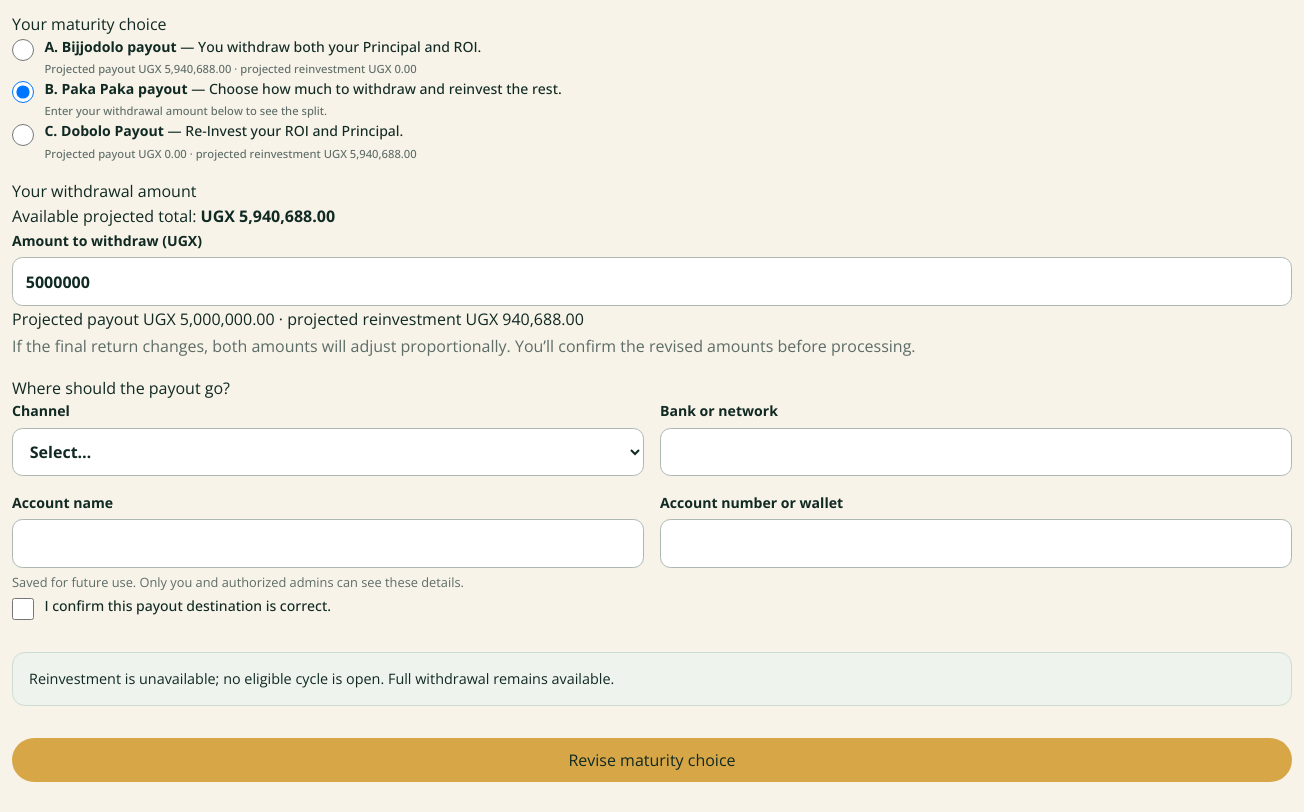
Scenario: Paka Paka withdrawal form › restores a saved withdrawal and hides it when another option is chosen
This screenshot has width=1304, height=812.
expect the field labelled "Amount to withdraw (UGX)" holds "5000000": met, box [12,257,1292,306]
What coordinates should you click on to do the following:
click the radio button labelled "C. Dobolo"
I would click on:
 (23, 135)
Its box is [12,124,34,146].
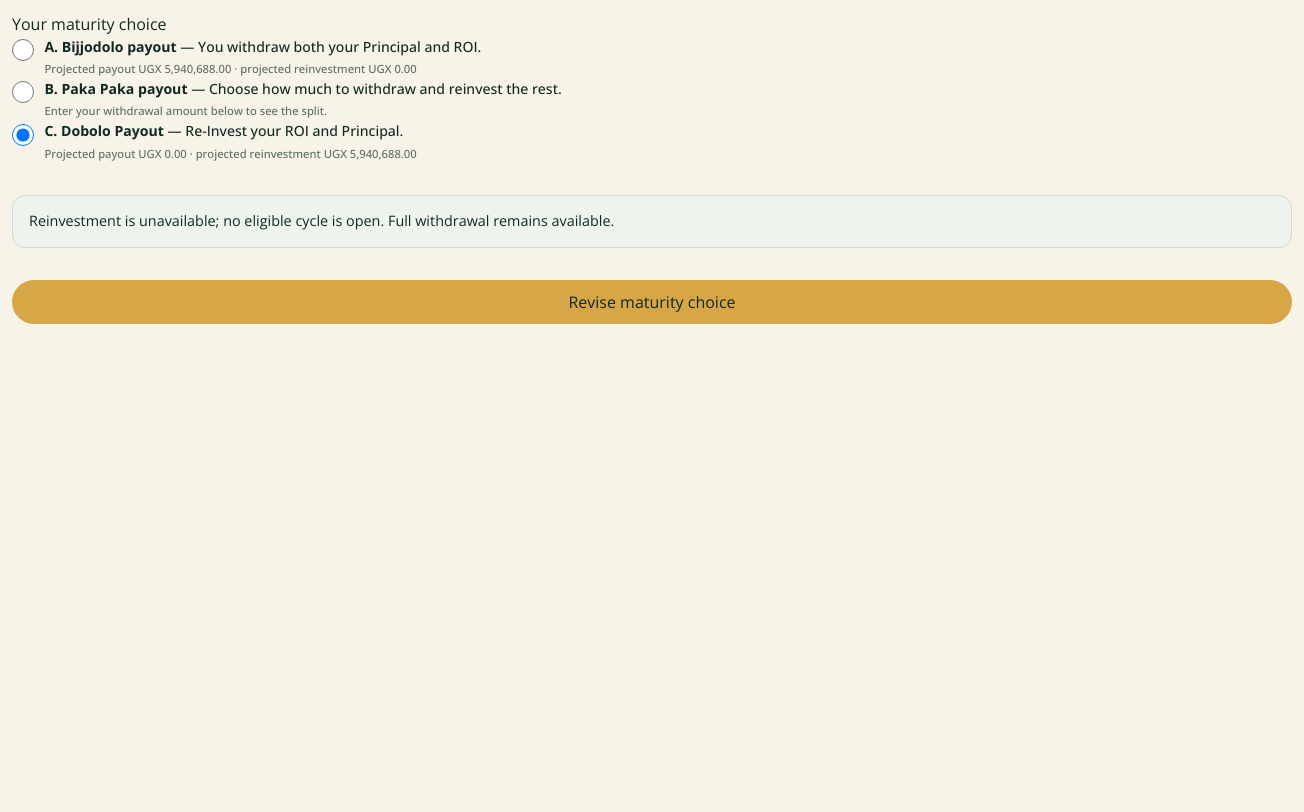
expect the label labelled "Amount to withdraw (UGX)" is gone: met
expect the text "Where should the payout go?" is gone: met
What coordinates should you click on to do the following:
click the radio button labelled "B. Paka Paka"
I would click on:
 (23, 92)
Its box is [12,81,34,103].
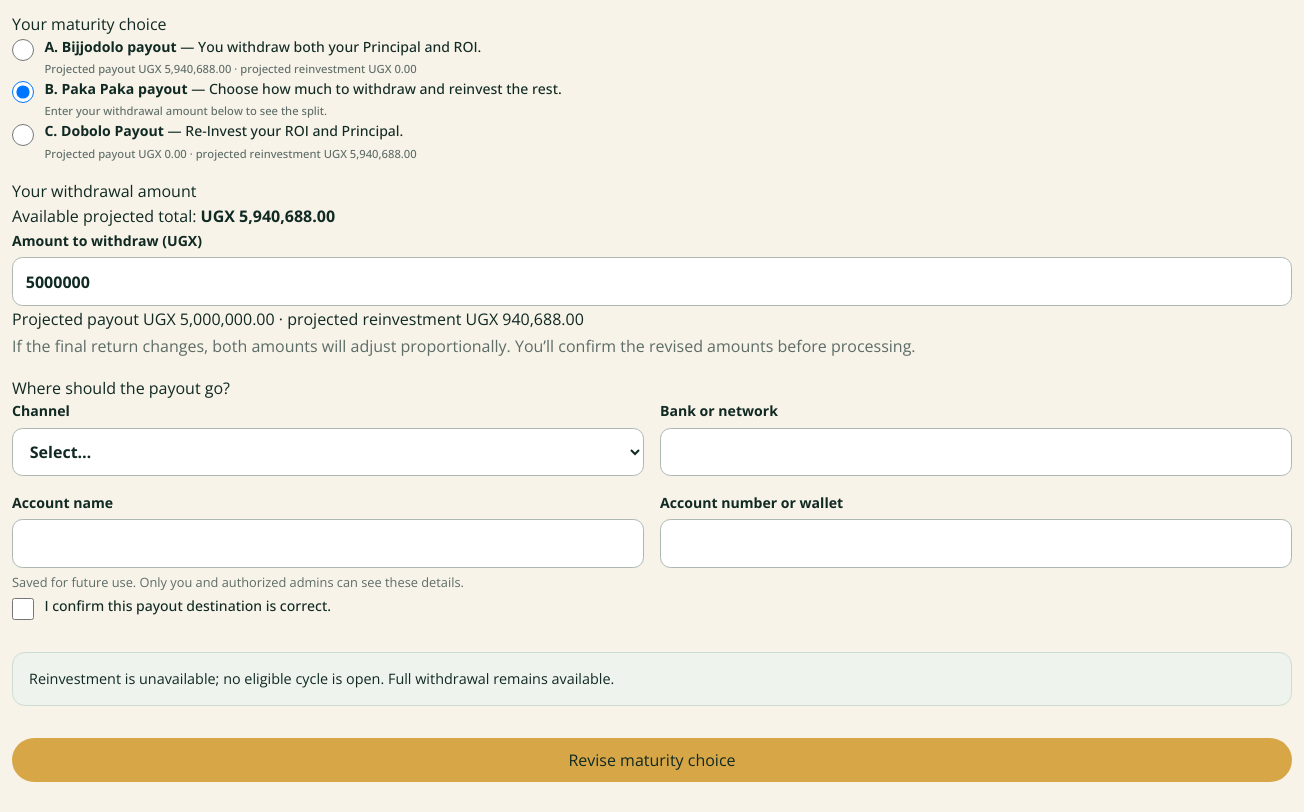
expect the field labelled "Amount to withdraw (UGX)" holds "5000000": met, box [12,257,1292,306]
